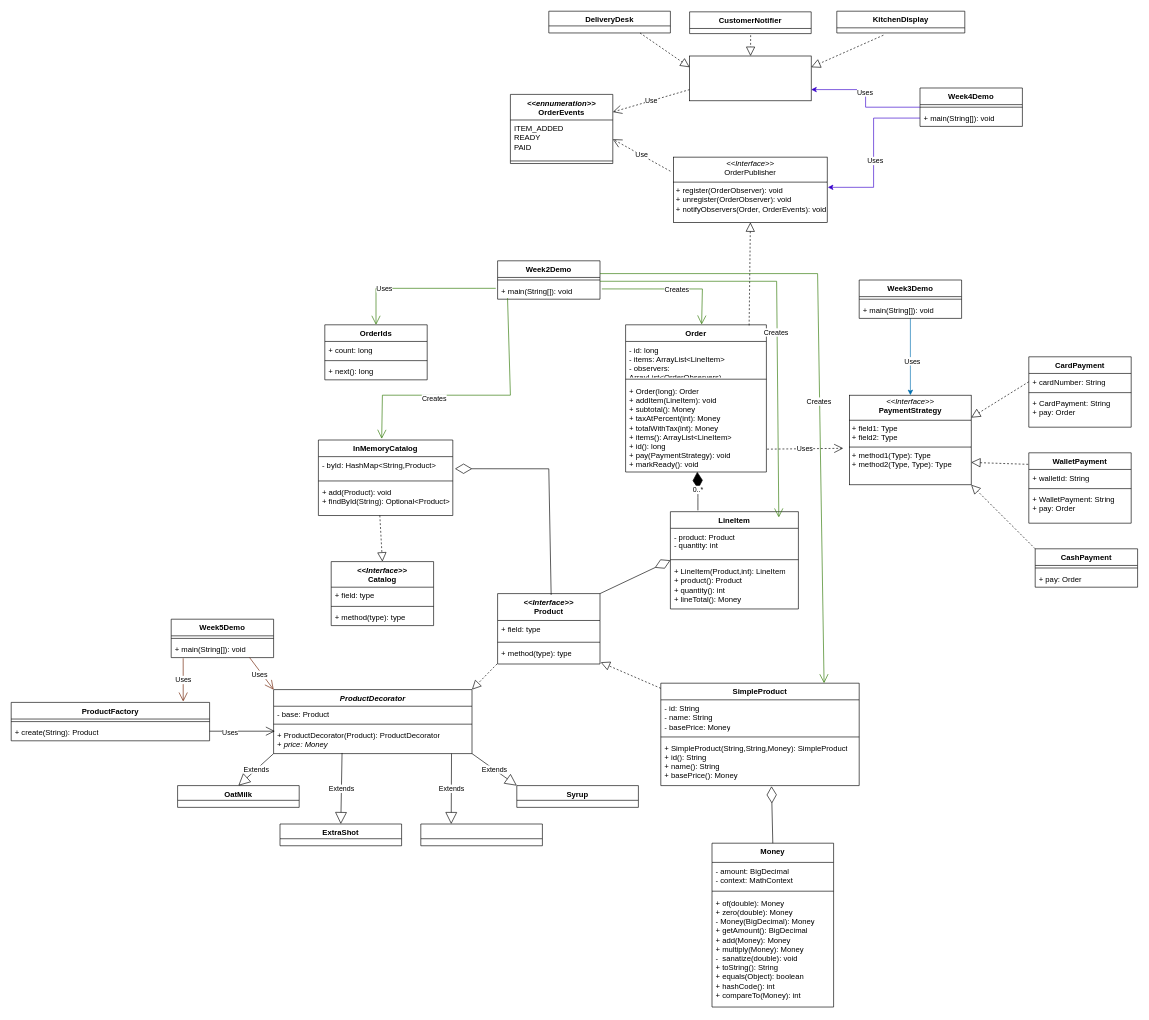
The diagram is 1149 pixels wide and 1020 high, and some of its shapes have lost their labels. The centre of each missing label's shape, as x and y in pixels:
"<<Interface>> OrderObserver + updated(Order, OrderEvents): void" belongs at (x=750, y=78).
"SizeLarge" belongs at (x=481, y=834).
